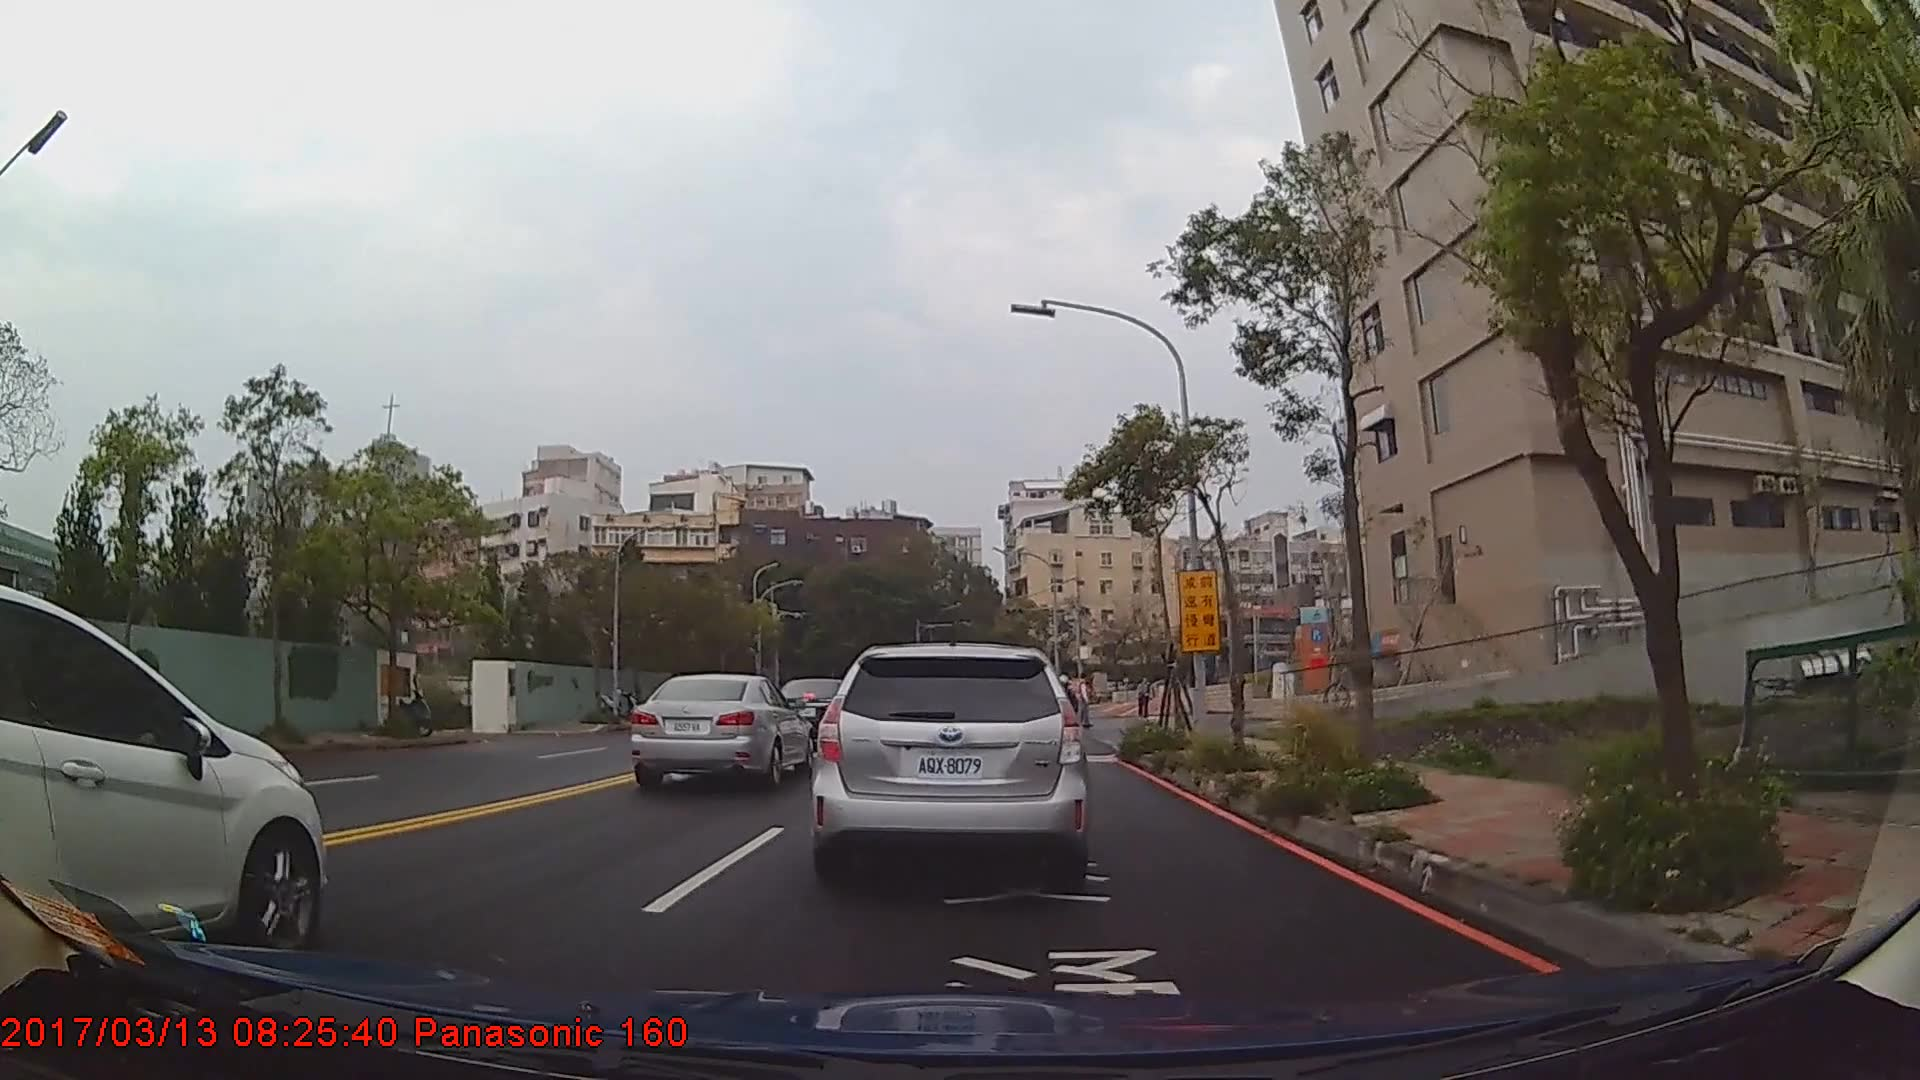pedestrian: (1075, 669, 1096, 728)
vehicle: (0, 580, 326, 962), (812, 638, 1088, 880), (628, 672, 815, 789)
